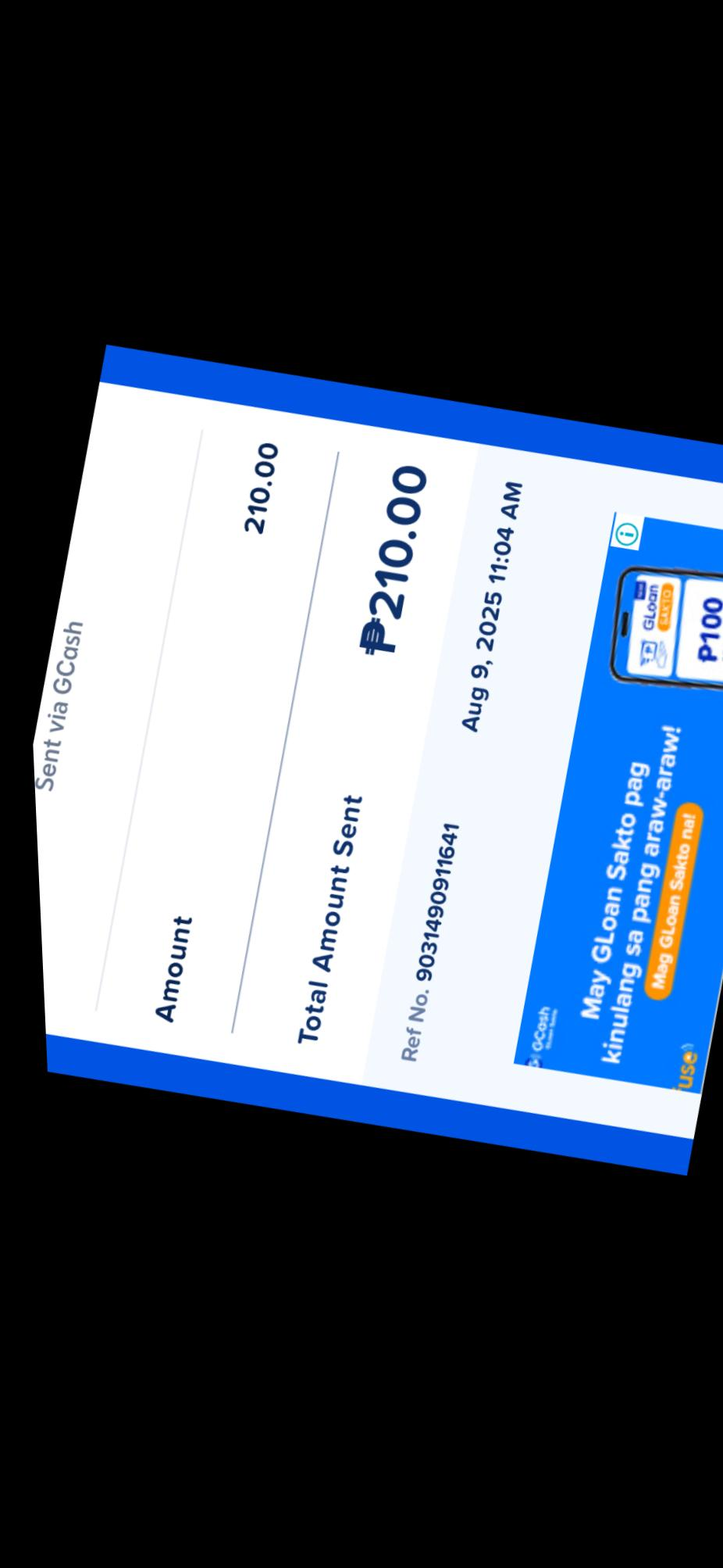Receipt: (33, 344, 723, 1176)
